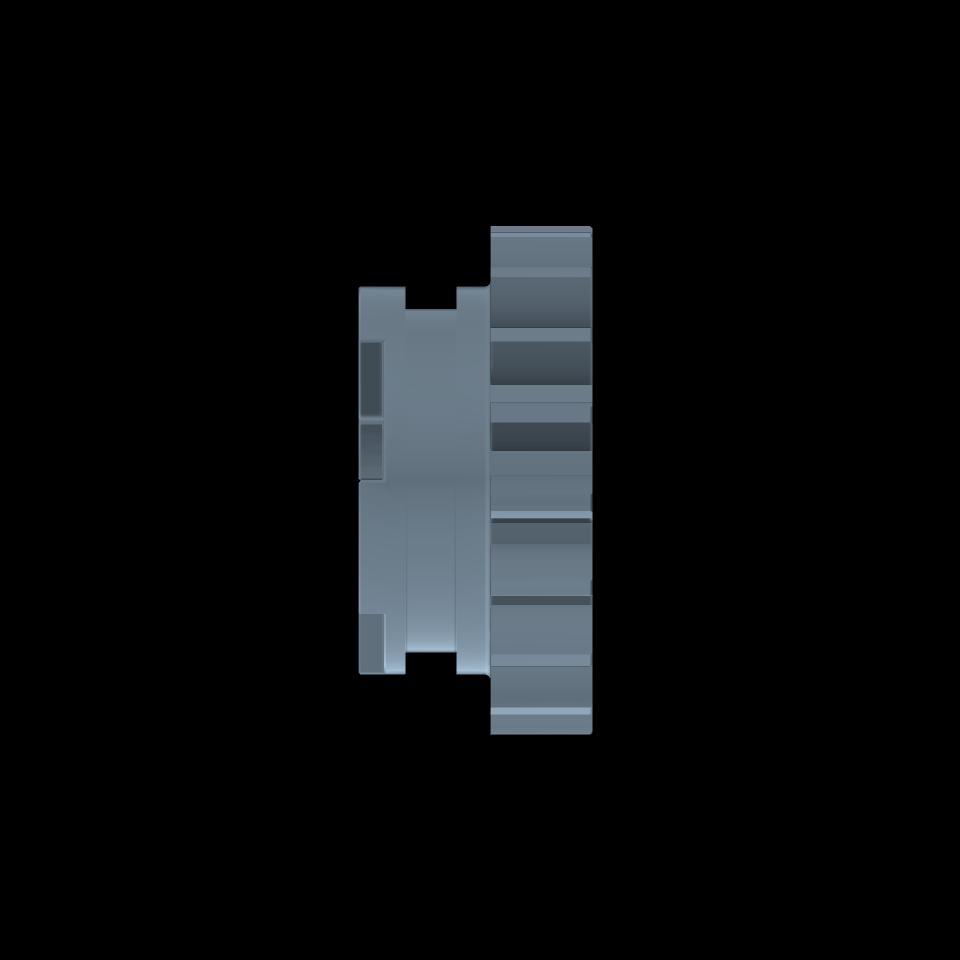Straight: (492, 227, 591, 734)
